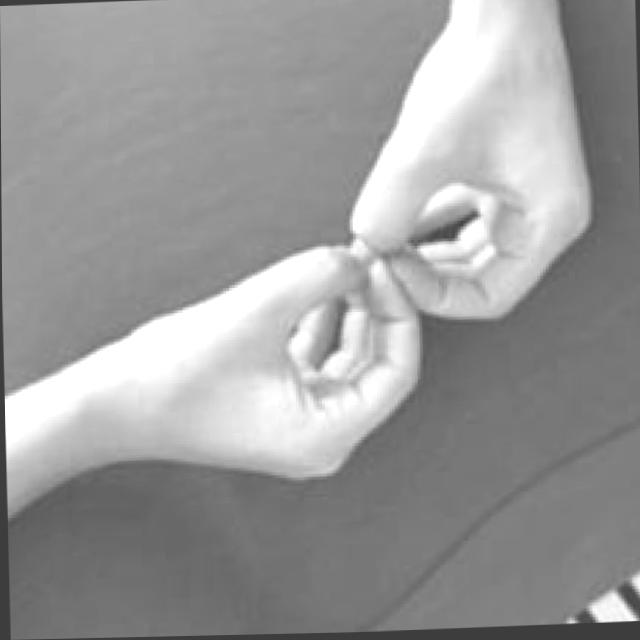B: (105, 64, 600, 488)
